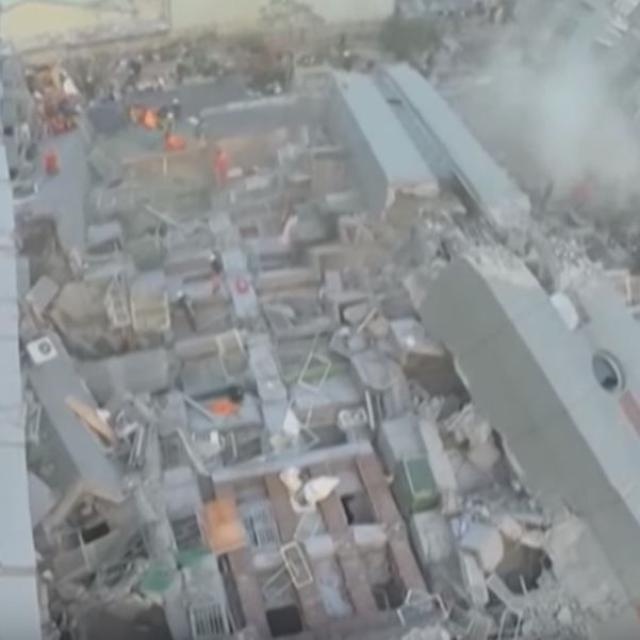collapsed_building: (4, 105, 639, 639)
